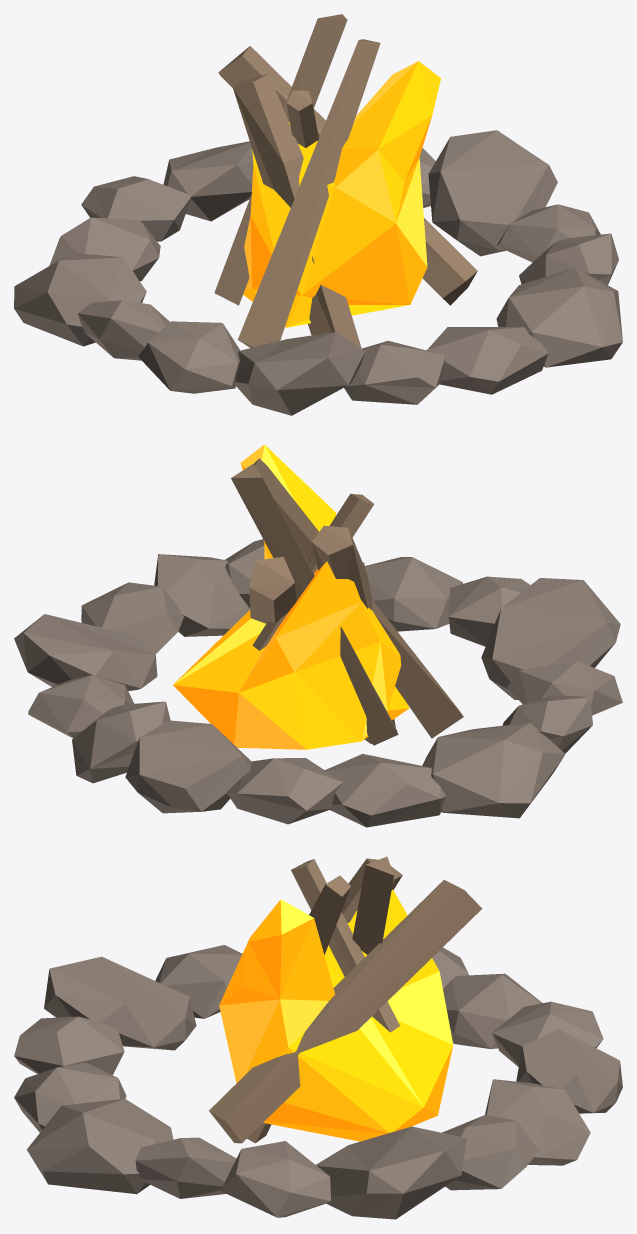
File: campfire.glb
3 views of the same model, one above another, from view 1: azimuth 30°, elevation 25°; view 2: azimuth 150°, elevation 25°; view 3: azimuth 270°, elevation 25° (orthographic). The views are drawn at different scales.
Visible parts, largest first — view 1: Fire2; view 2: Fire2; view 3: Fire2.
Part boxes in pixels (bbox=[...]): Fire2: bbox=[14, 14, 622, 415]; Fire2: bbox=[14, 444, 622, 827]; Fire2: bbox=[14, 856, 622, 1219].
Size of the model in its own units: 2.84 by 1.55 by 2.78.
